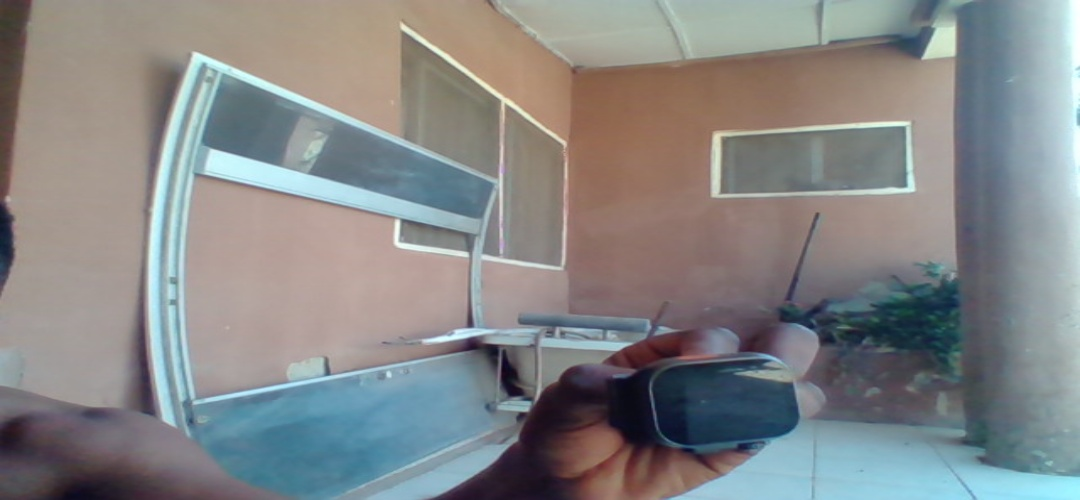smart_watch: (615, 353, 802, 457)
